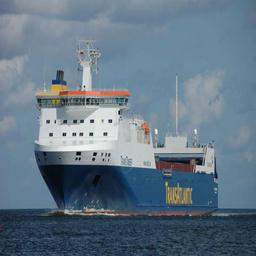Ship: (31, 38, 223, 222)
